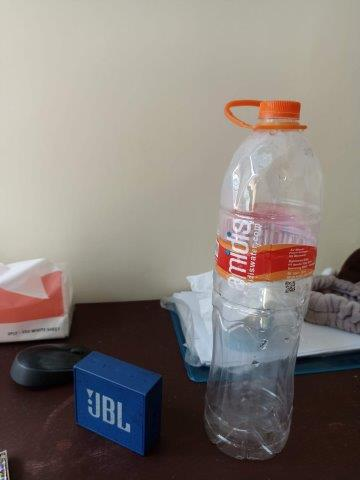botolplastik: (204, 101, 324, 463)
